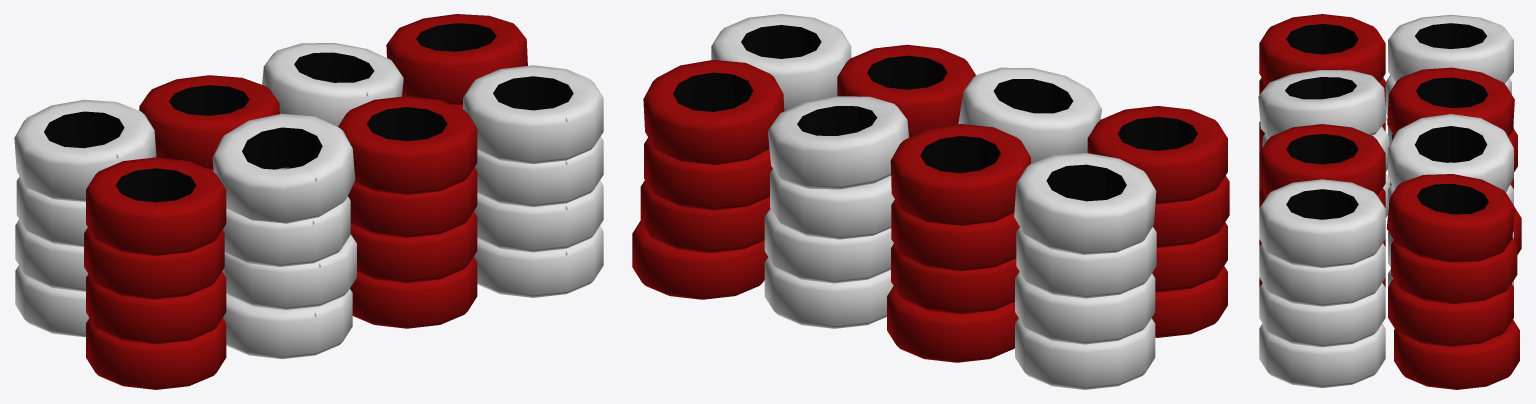
The model's file is prop_tyre_4x8.FBX.
The picture shows the model from 3 angles, left to right: view 1: azimuth 30°, elevation 25°; view 2: azimuth 150°, elevation 25°; view 3: azimuth 270°, elevation 25°; orthographic projection. The views are drawn at different scales.
Visible parts, largest first — view 1: prop_tyre_block; view 2: prop_tyre_block; view 3: prop_tyre_block.
Boxes of the visible parts, <box> form: prop_tyre_block: <box>14,14,603,389</box>; prop_tyre_block: <box>632,14,1229,389</box>; prop_tyre_block: <box>1258,14,1521,389</box>.
Size of the model in its own units: 138 by 50.47 by 69.2.
1 material, 1 textured.
